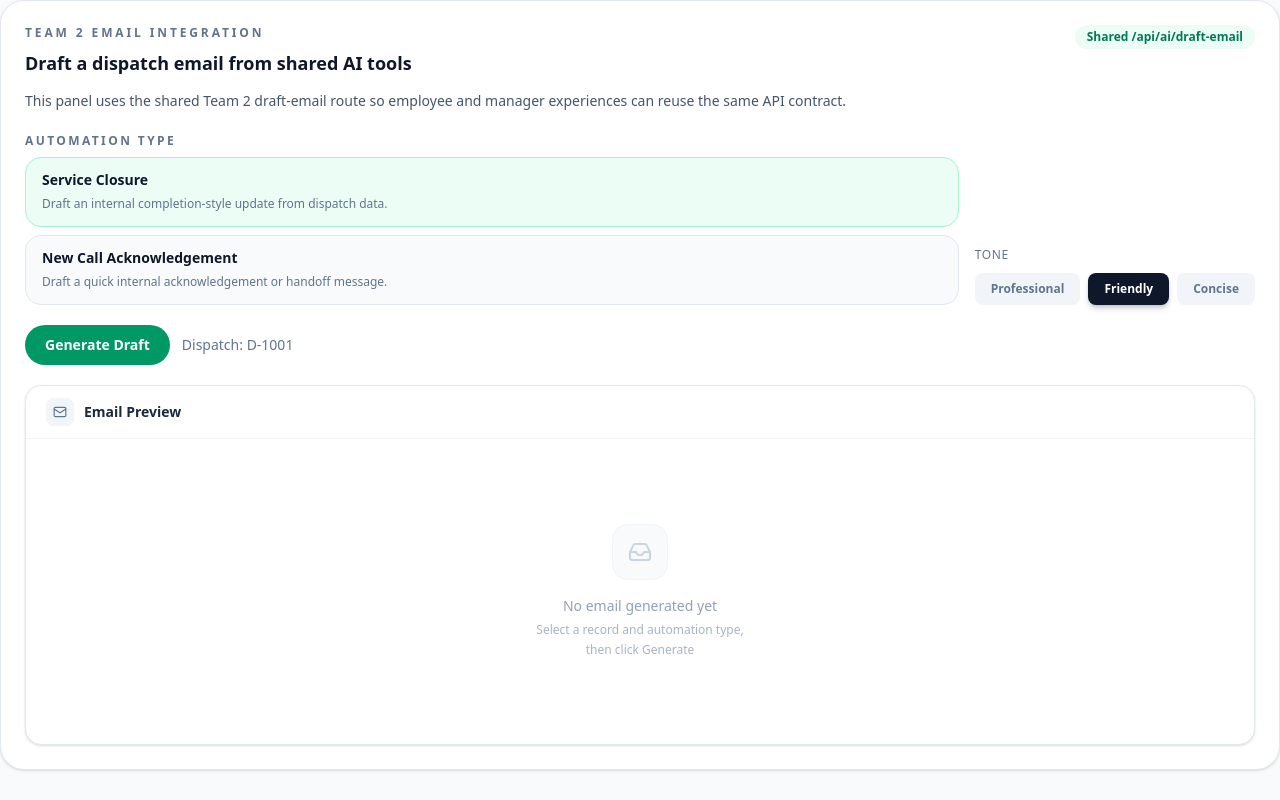
it: EmployeeEmailAssistant › surfaces an error when the shared draft route fails
The image size is (1280, 800).
What coordinates should you click on to do the following:
click the button "Generate Draft"
I would click on:
 (97, 345)
Its box is [25, 325, 170, 365].
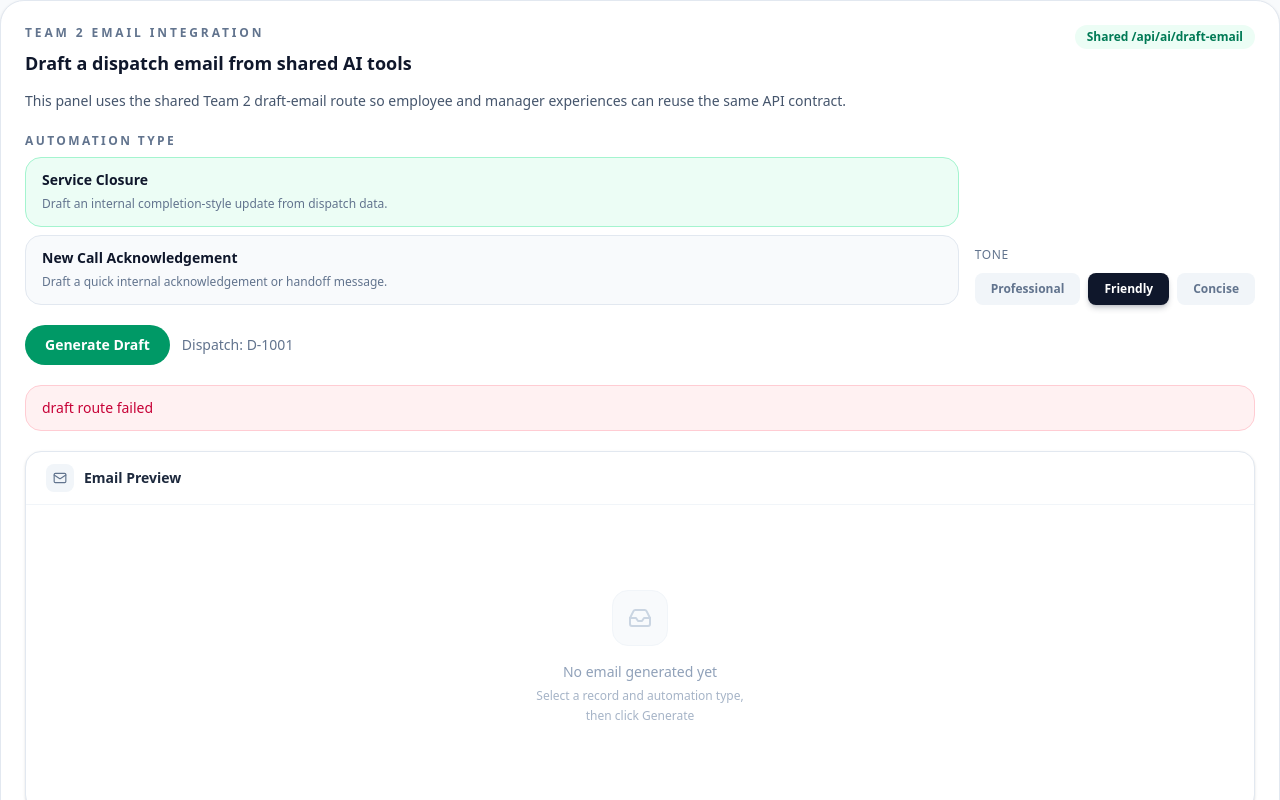
expect the text "draft route failed" is shown: met, box [25, 385, 1255, 431]
